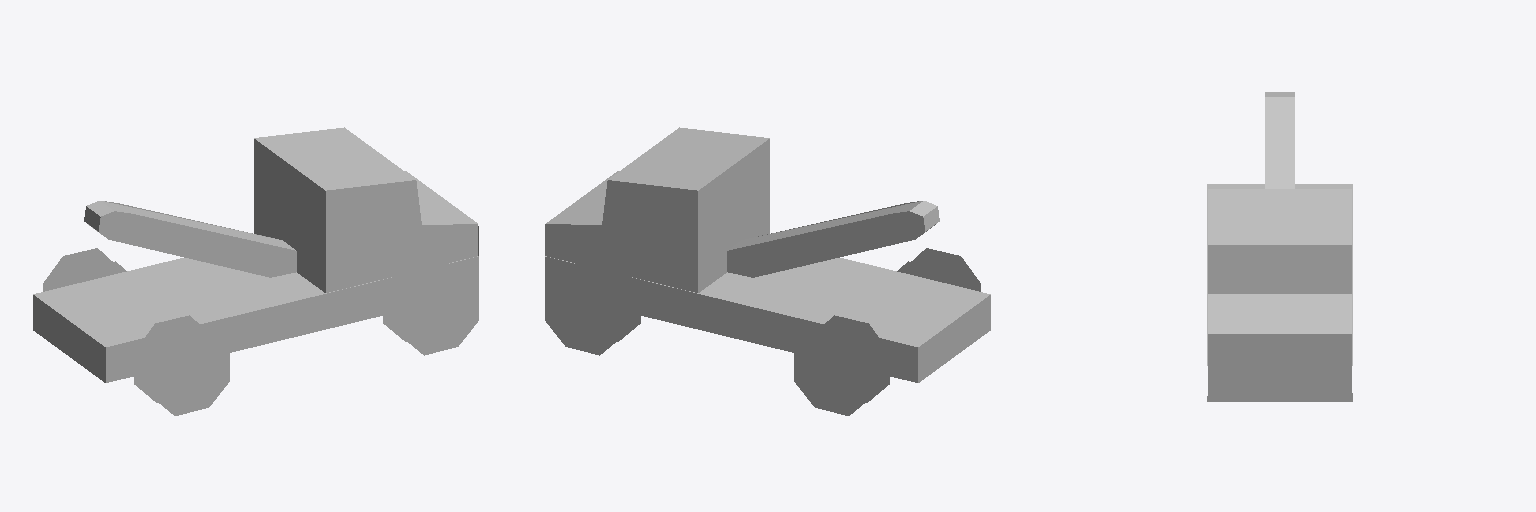
Rendered from s_truck1.obj.
3 renders of one model, left to right at view 1: azimuth 30°, elevation 25°; view 2: azimuth 150°, elevation 25°; view 3: azimuth 270°, elevation 25°, orthographic.
Visible parts, largest first — view 1: Cube; view 2: Cube; view 3: Cube.
Part boxes in pixels (bbox=[...]): Cube: bbox=[33, 127, 478, 415]; Cube: bbox=[545, 127, 990, 415]; Cube: bbox=[1207, 92, 1352, 401].
Size of the model in its own units: 0.3852 by 0.1705 by 0.1983.